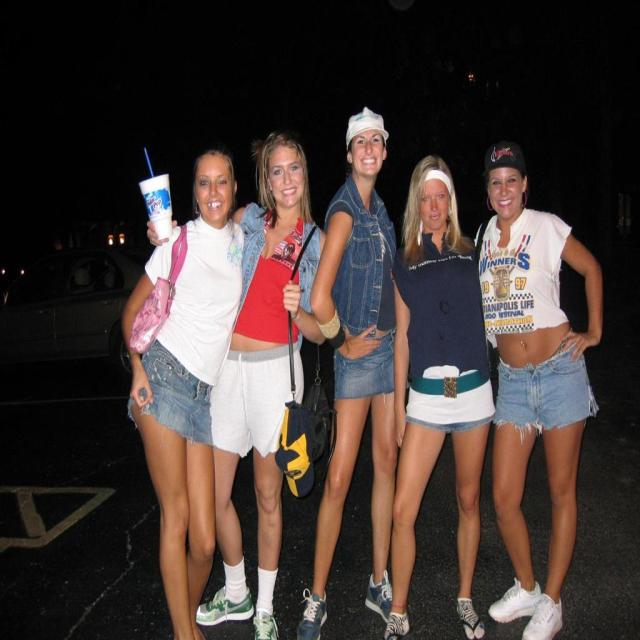Face: (181, 153, 238, 241), (476, 153, 535, 226), (263, 133, 312, 208), (414, 168, 459, 242), (343, 115, 390, 182)
